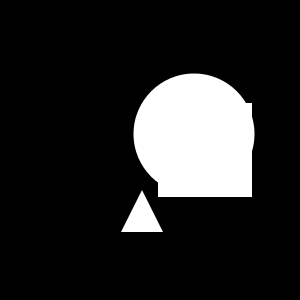circle: (158, 103, 252, 197)
rectangle: (133, 74, 254, 194)
triangle: (121, 190, 163, 232)
